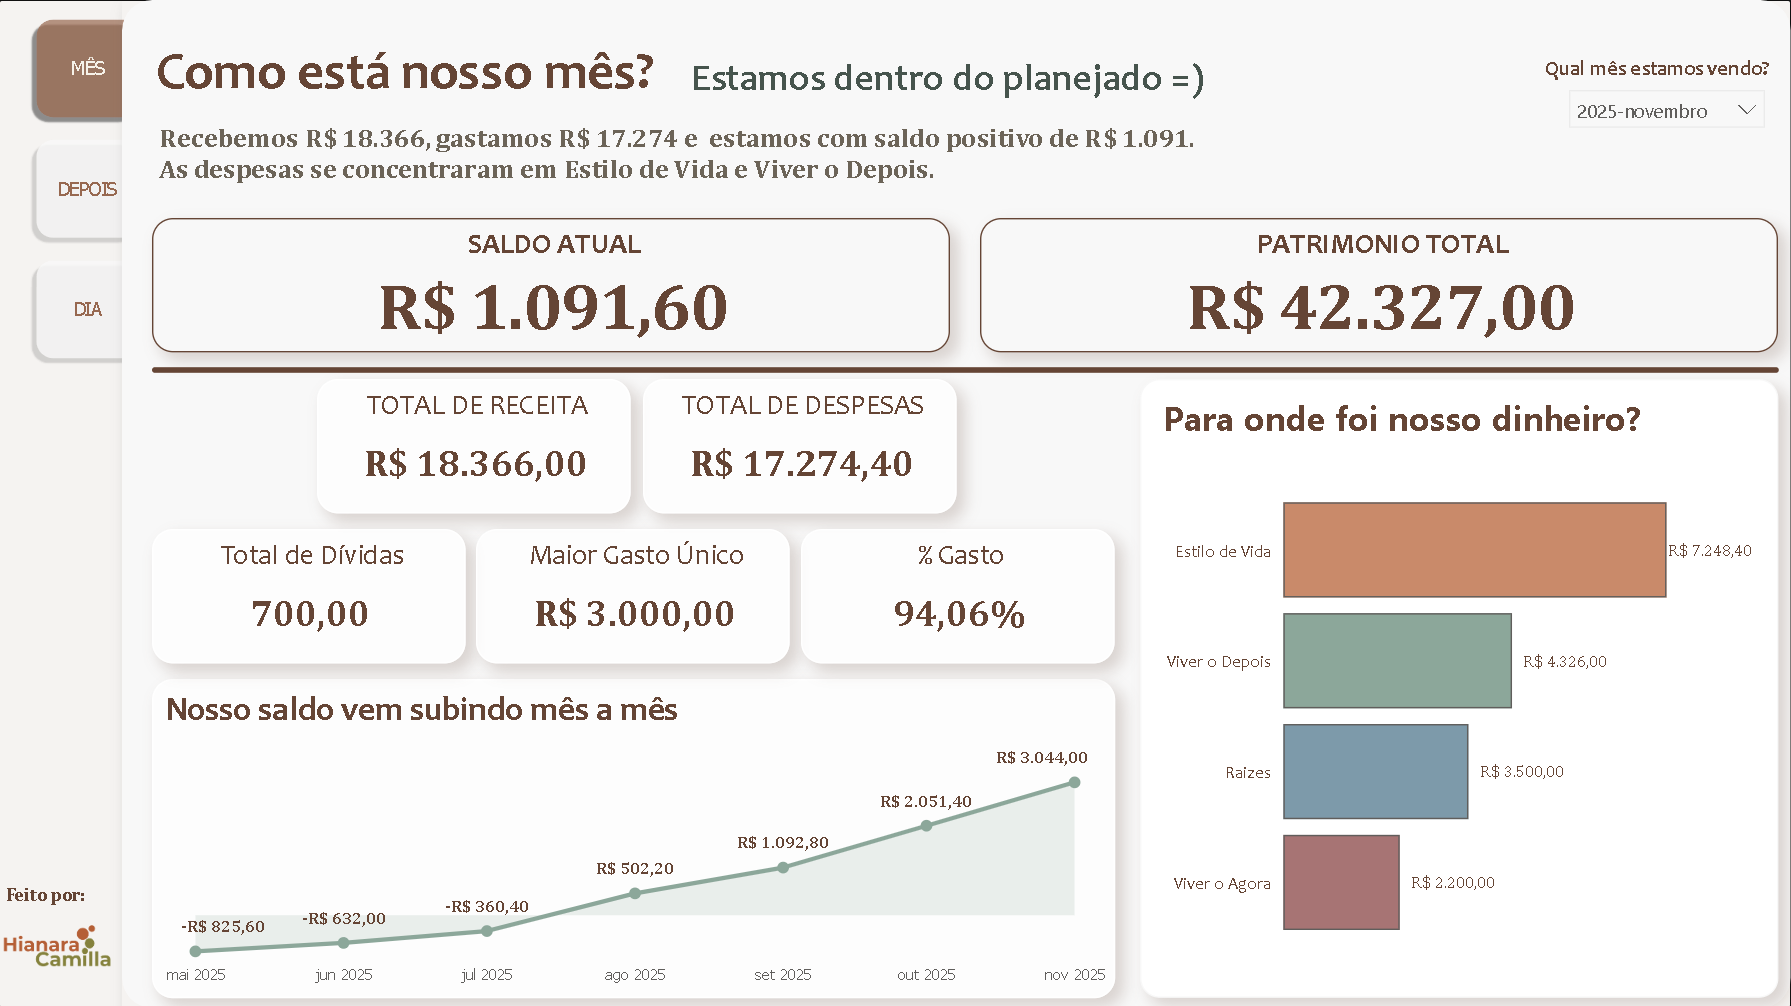

Layout of this report page (visuals, bound fields, positions):
{"tool":"powerbi","page":{"name":"MÊS","canvas":[1280,720],"ordinal":0},"visuals":[{"type":"pageNavigator","box":[11,8,96,256],"z":0},{"type":"shape","box":[88,0,1192,720],"z":1000},{"type":"shape","box":[109,244,1162,40],"z":2000},{"type":"textbox","box":[107,22,370,80],"z":3000},{"type":"areaChart","title":"Nosso saldo vem subindo mês a mês","fields":{"Category":["D_Calendario.Ano","D_Calendario.AnoMes","D_Calendario.Data"],"Y":["M_Medidas_Financeiro.Saldo Acumulado"]},"box":[109.2,485.4,687.7,227.7],"z":4000},{"type":"card","title":"TOTAL DE RECEITA","fields":{"Values":["M_Medidas_Financeiro.Total de Receita"]},"box":[227,271,224,96],"z":5000},{"type":"card","title":"TOTAL DE DESPESAS","fields":{"Values":["M_Medidas_Financeiro.Total de Despesas"]},"box":[460,271,224,96],"z":6000},{"type":"card","title":"SALDO ATUAL","fields":{"Values":["M_Medidas_Financeiro.Saldo Atual"]},"box":[109,156,570,96],"z":7000},{"type":"shape","box":[815.4,270.8,456,442],"z":8000,"group":"g1"},{"type":"card","title":"Total de Dívidas","fields":{"Values":["M_Medidas_Financeiro.Dividas"]},"box":[109,378,224,96],"z":8000},{"type":"card","title":"PATRIMONIO TOTAL","fields":{"Values":["M_Medidas_Financeiro.Patrimonio Investimentos Atual"]},"box":[701,156,570,96],"z":9000},{"type":"clusteredBarChart","title":"Para onde foi nosso dinheiro?","fields":{"Category":["dim_mov.categoria_geral","dim_mov.caixinha","dim_mov.descricao"],"Y":["M_Medidas_Financeiro.Total de Despesas"]},"box":[826.5,277.5,434.4,425.6],"z":9000,"group":"g1"},{"type":"card","title":"Maior Gasto Único","fields":{"Values":["M_Medidas_Financeiro.Maior Gasto"]},"box":[341,378,224,96],"z":10000},{"type":"card","title":"% Gasto","fields":{"Values":["M_Medidas_Financeiro.Gasto_Percent"]},"box":[573,378,224,96],"z":11000},{"type":"textbox","box":[109,82,1145,58],"z":12000},{"type":"slicer","fields":{"Values":["D_Calendario.AnoMes"]},"box":[1111,54,160,48],"z":13000,"group":"g2"},{"type":"group","id":"g1","title":"Grupo 1","box":[815.4,270.8,455.4,442.3],"z":13000},{"type":"textbox","box":[489,34,474,56],"z":14000},{"type":"group","id":"g2","title":"Grupo 2","box":[1099,34,172,68],"z":15000},{"type":"textbox","box":[1099,34,172,36],"z":15000,"group":"g2"},{"type":"image","box":[0,639,84,72],"z":16000},{"type":"textbox","box":[0,626,76,40],"z":17000}]}

Visuals, with their boxes on the page's 1280x720 design canvas (x1, y1, x2, y2). These are canvas units, not pixel positions in the 1791x1006 screenshot, which may show the page scaled, cropped or inside an application window:
pageNavigator: 11/8/107/264
shape: 88/0/1280/720
shape: 109/244/1271/284
textbox: 107/22/477/102
"Nosso saldo vem subindo mês a mês" areaChart: 109/485/797/713
"TOTAL DE RECEITA" card: 227/271/451/367
"TOTAL DE DESPESAS" card: 460/271/684/367
"SALDO ATUAL" card: 109/156/679/252
shape: 815/271/1271/713
"Total de Dívidas" card: 109/378/333/474
"PATRIMONIO TOTAL" card: 701/156/1271/252
"Para onde foi nosso dinheiro?" clusteredBarChart: 826/278/1261/703
"Maior Gasto Único" card: 341/378/565/474
"% Gasto" card: 573/378/797/474
textbox: 109/82/1254/140
slicer - D_Calendario.AnoMes: 1111/54/1271/102
"Grupo 1" group: 815/271/1271/713
textbox: 489/34/963/90
"Grupo 2" group: 1099/34/1271/102
textbox: 1099/34/1271/70
image: 0/639/84/711
textbox: 0/626/76/666
